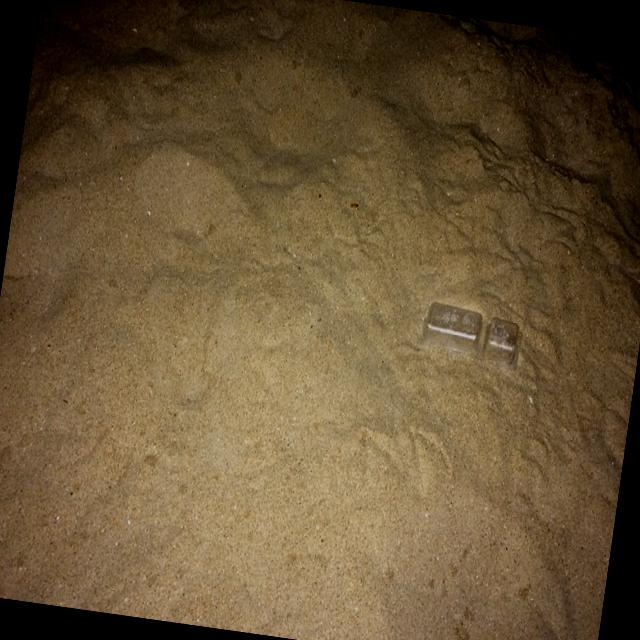Trash: (416, 296, 529, 373)
